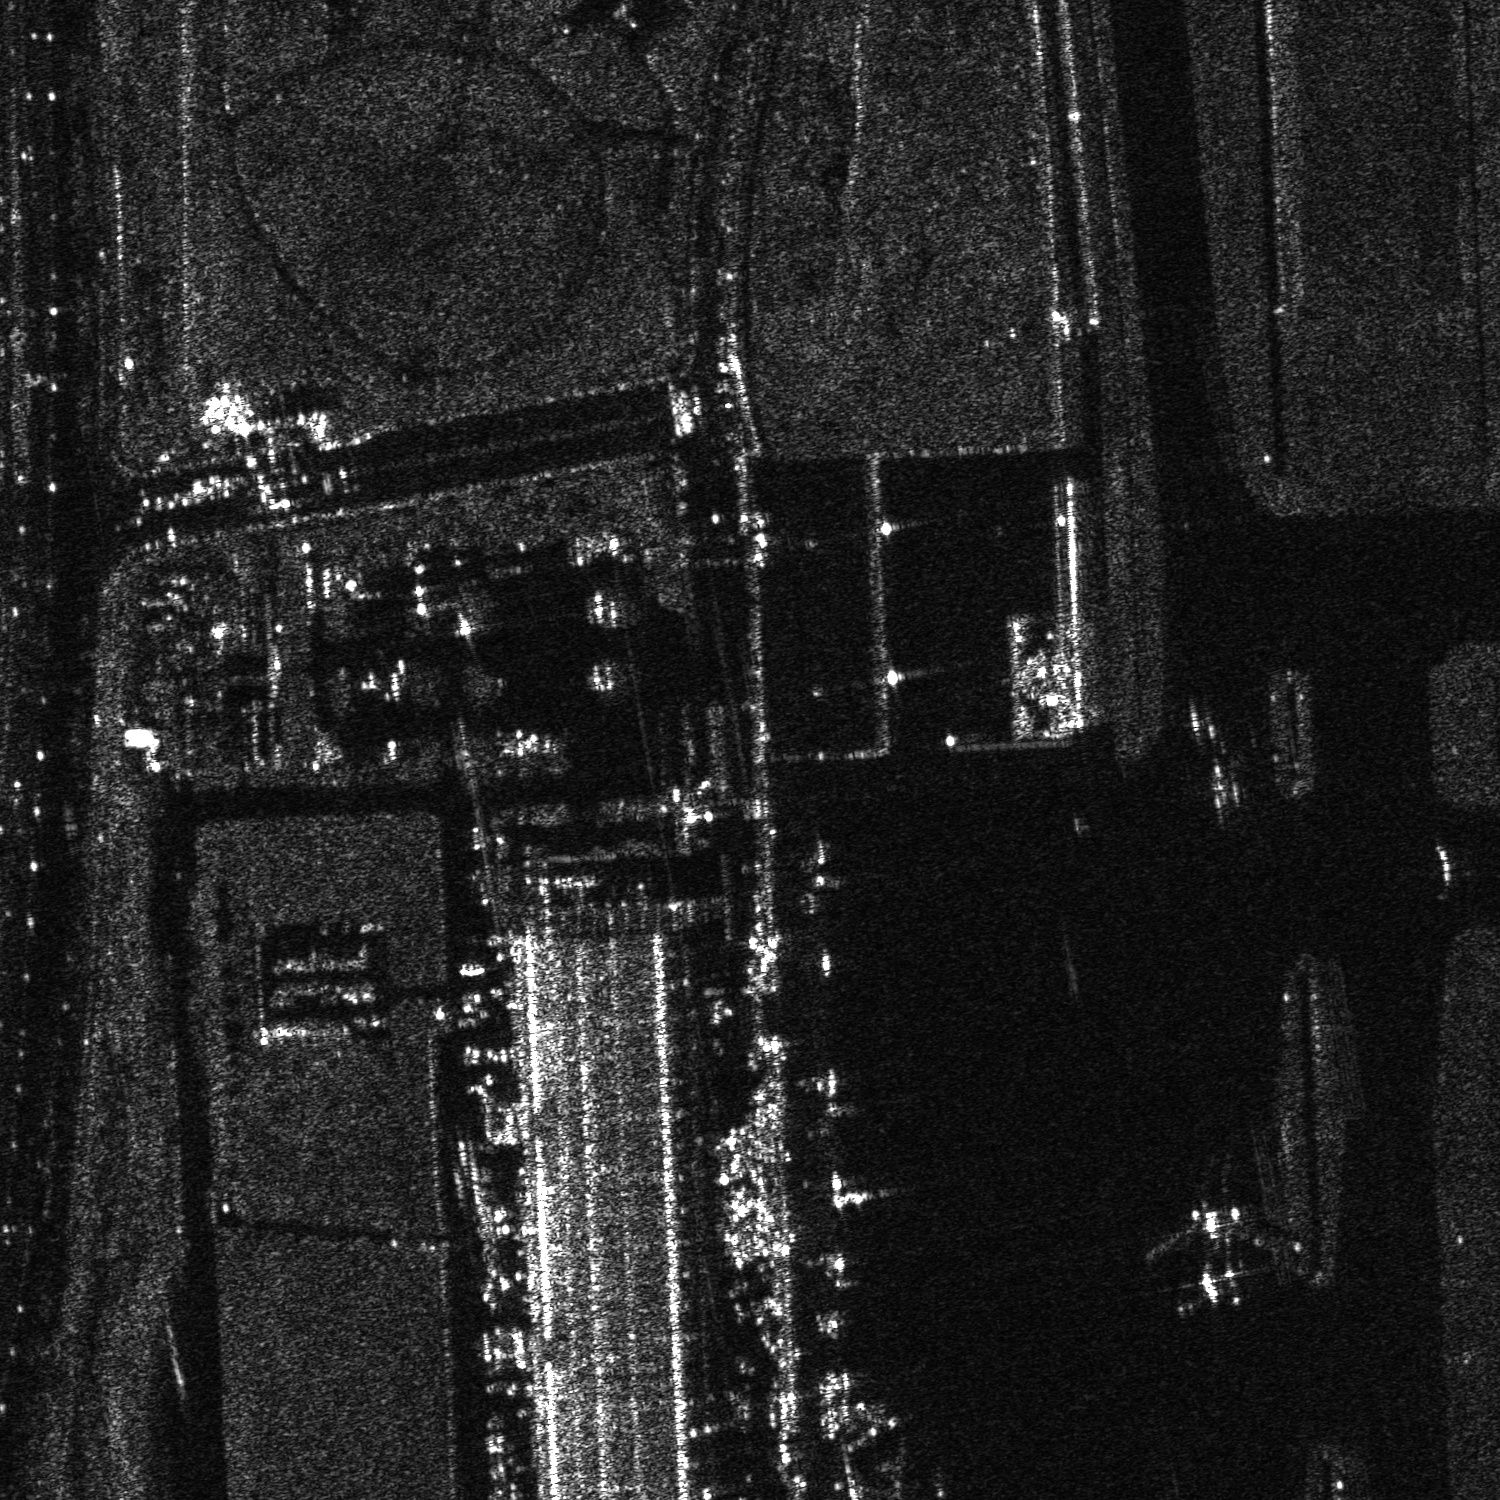A220: (839, 1435, 953, 1499)
other: (1143, 1201, 1284, 1327)
